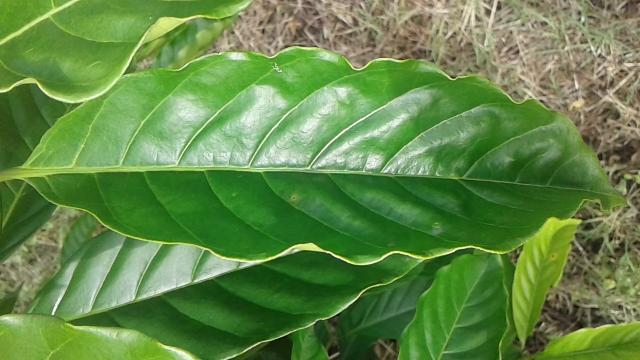healthy: (19, 40, 638, 268)
